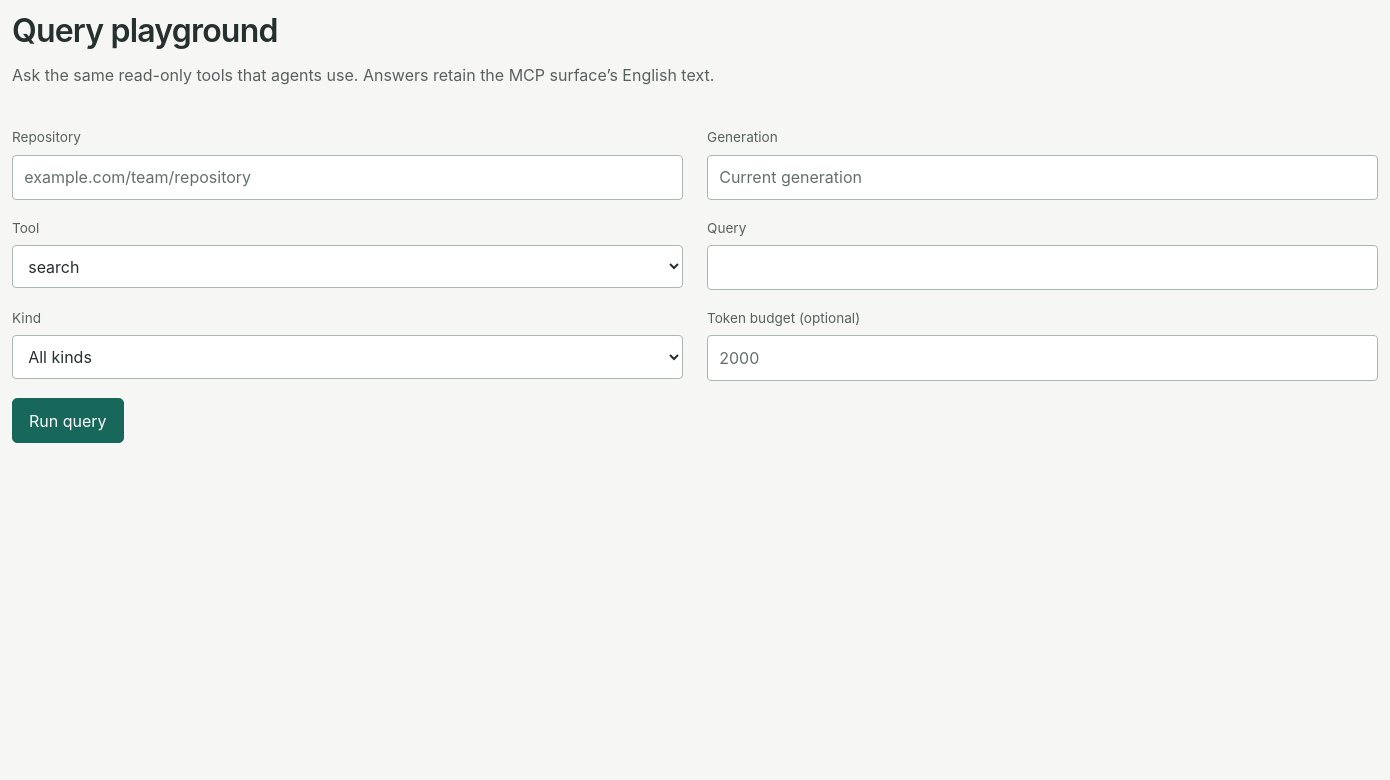
Test: playground sends the served shape and displays the exact answer in en
The image size is (1390, 780).
Type "example.com/chain/web" into the field labelled "Repository" at {"x": 348, "y": 177}, box [12,155,683,200]
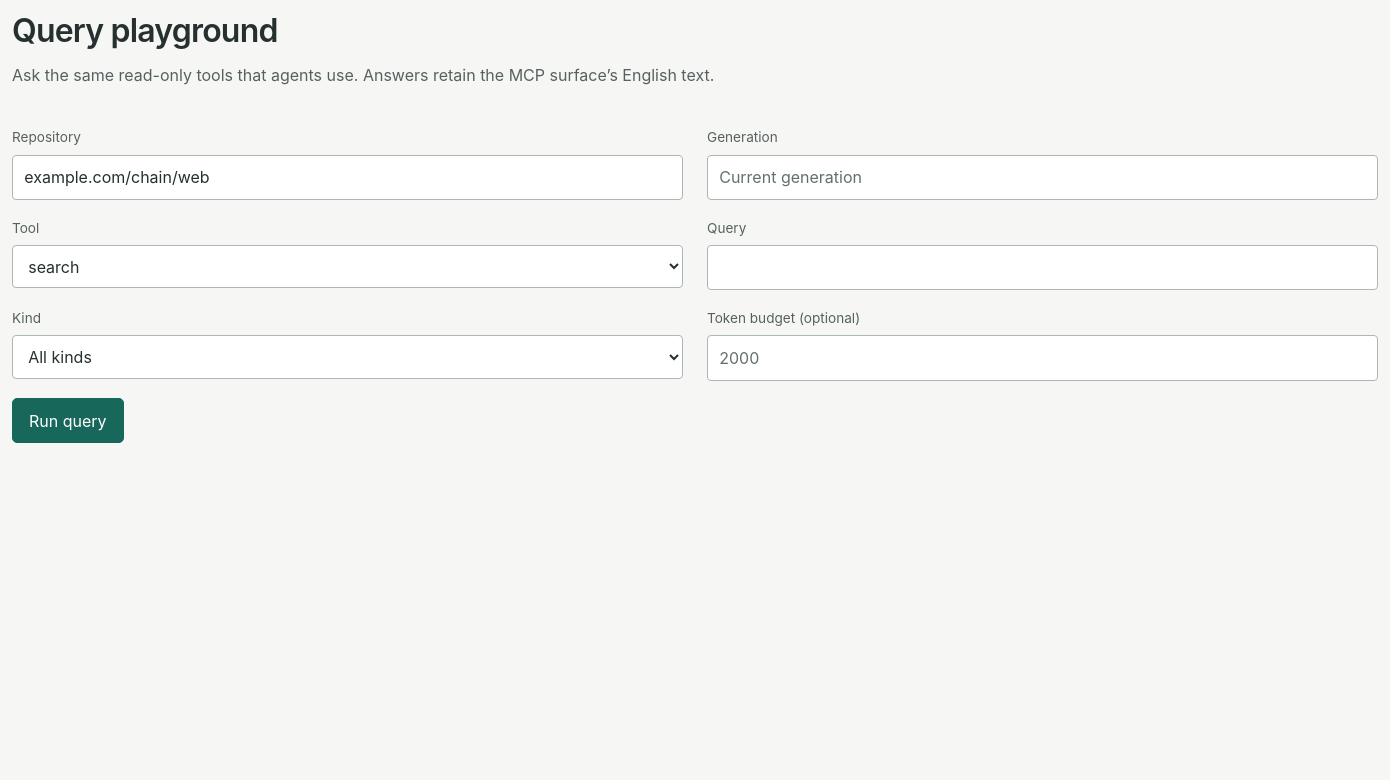
Type "0123456789abcdef" into the field labelled "Generation" at {"x": 1042, "y": 177}, box [707,155,1378,200]
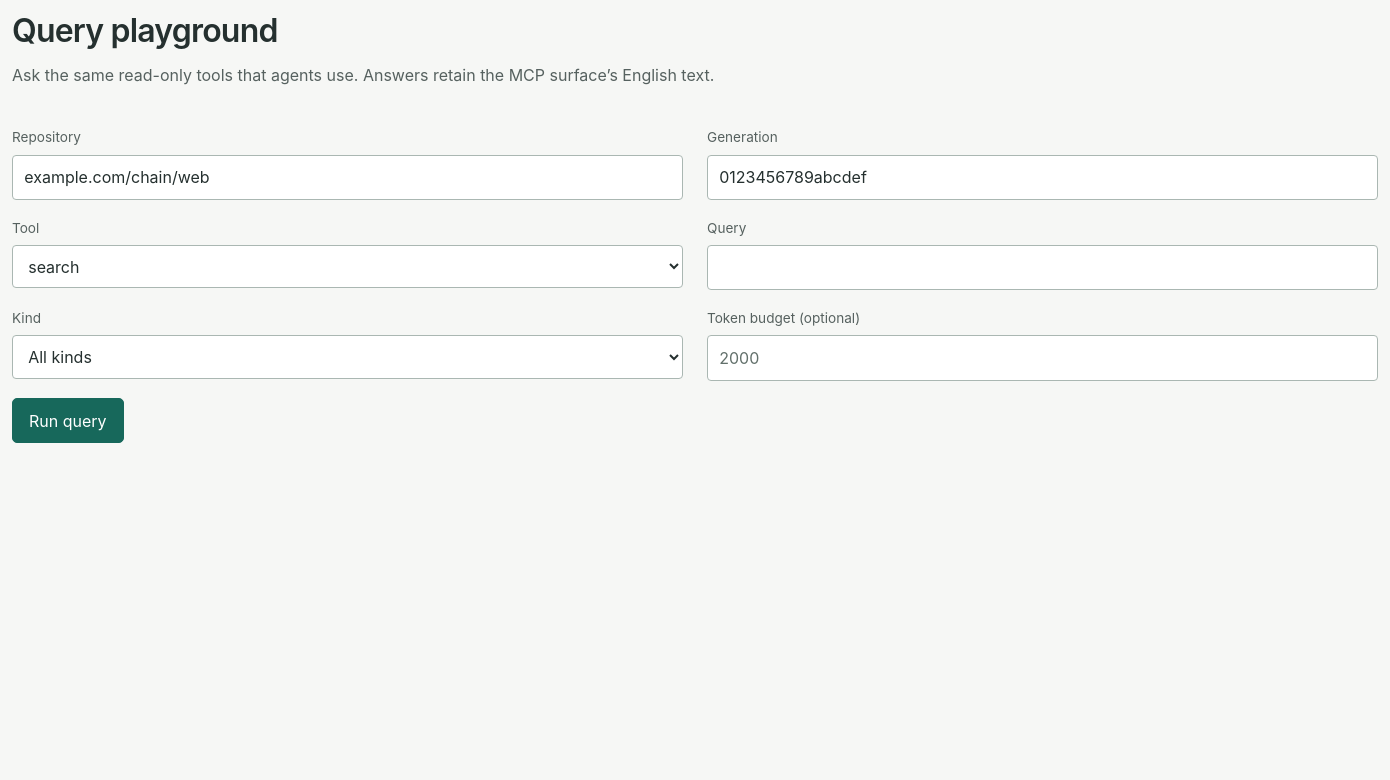
Select "trace" in the dropdown labelled "Tool" at {"x": 348, "y": 267}, box [12,245,683,288]
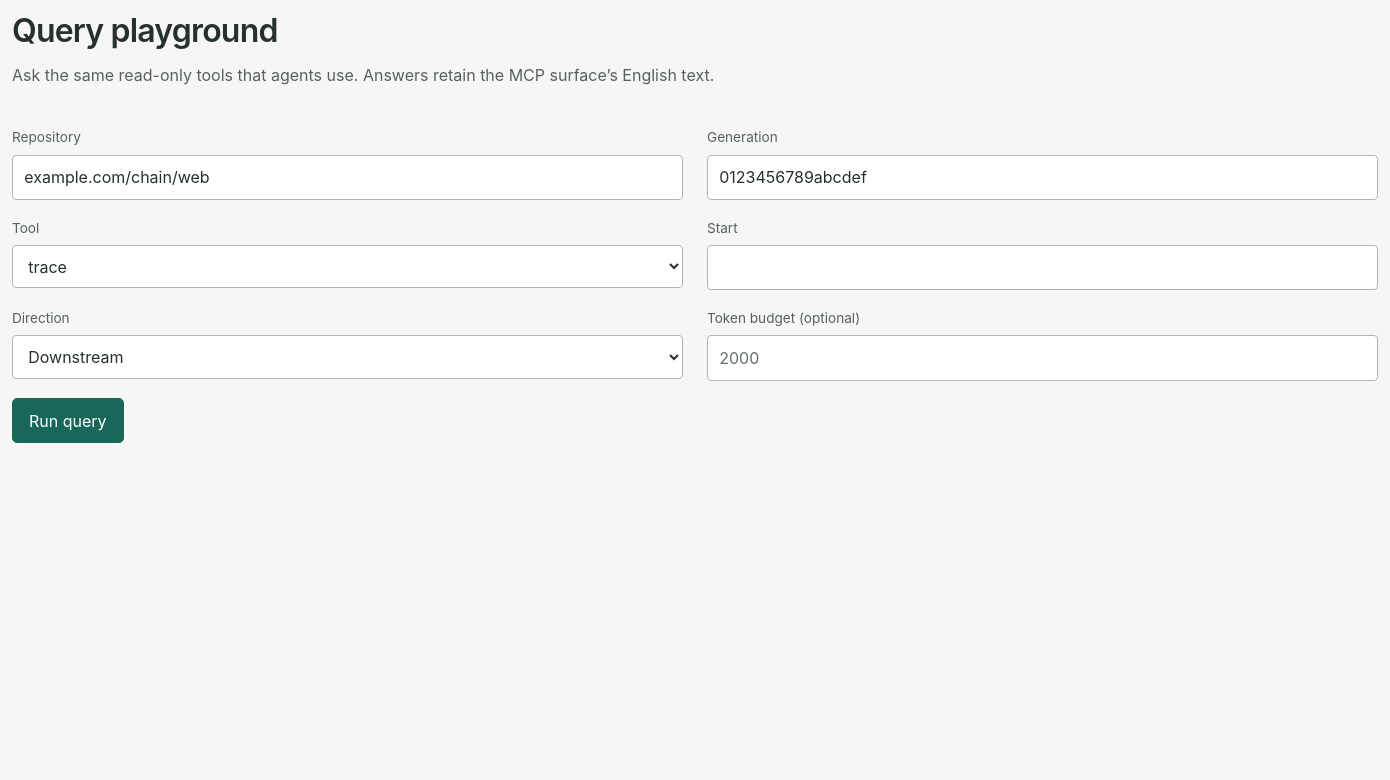
Type "dashboard" into the field labelled "Start" at {"x": 1042, "y": 268}, box [707,245,1378,290]
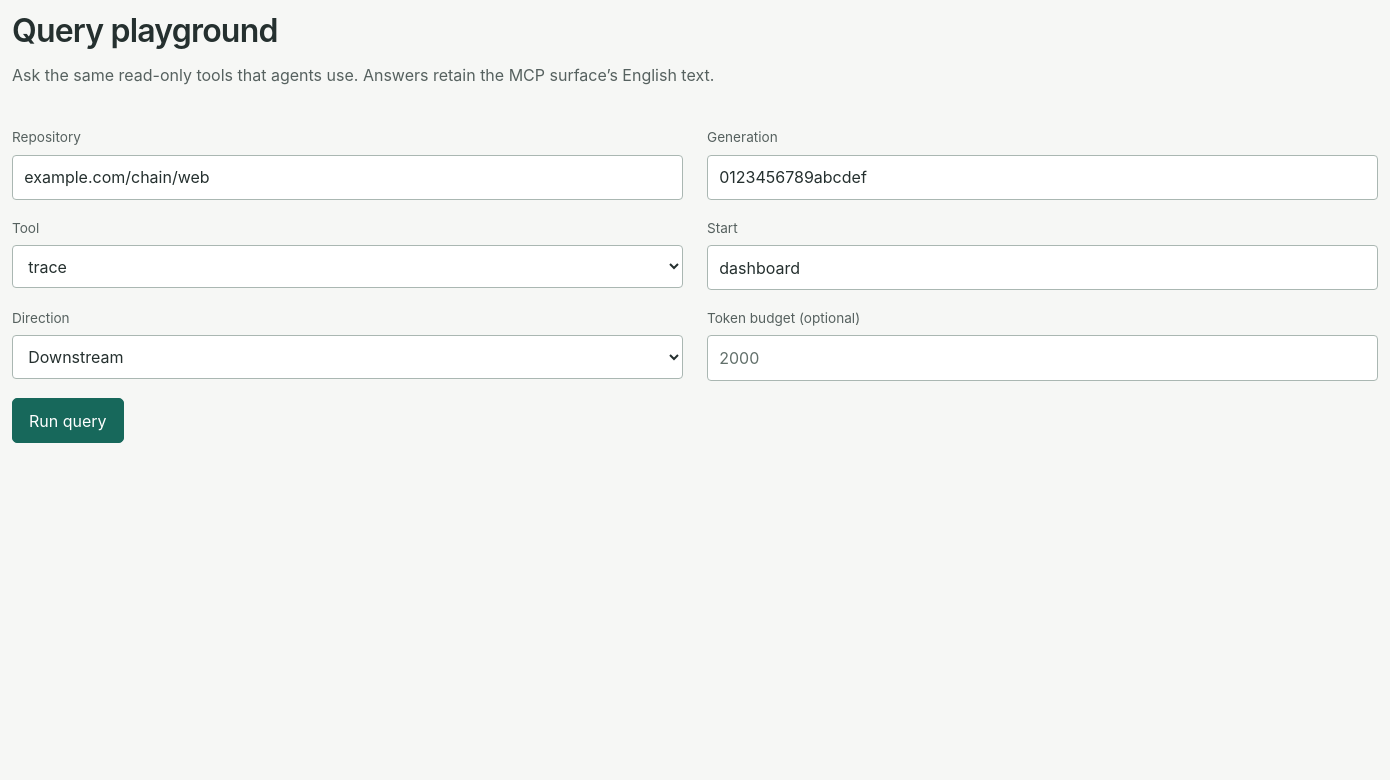
Submit the form named "Query playground", box [12,127,1378,444]
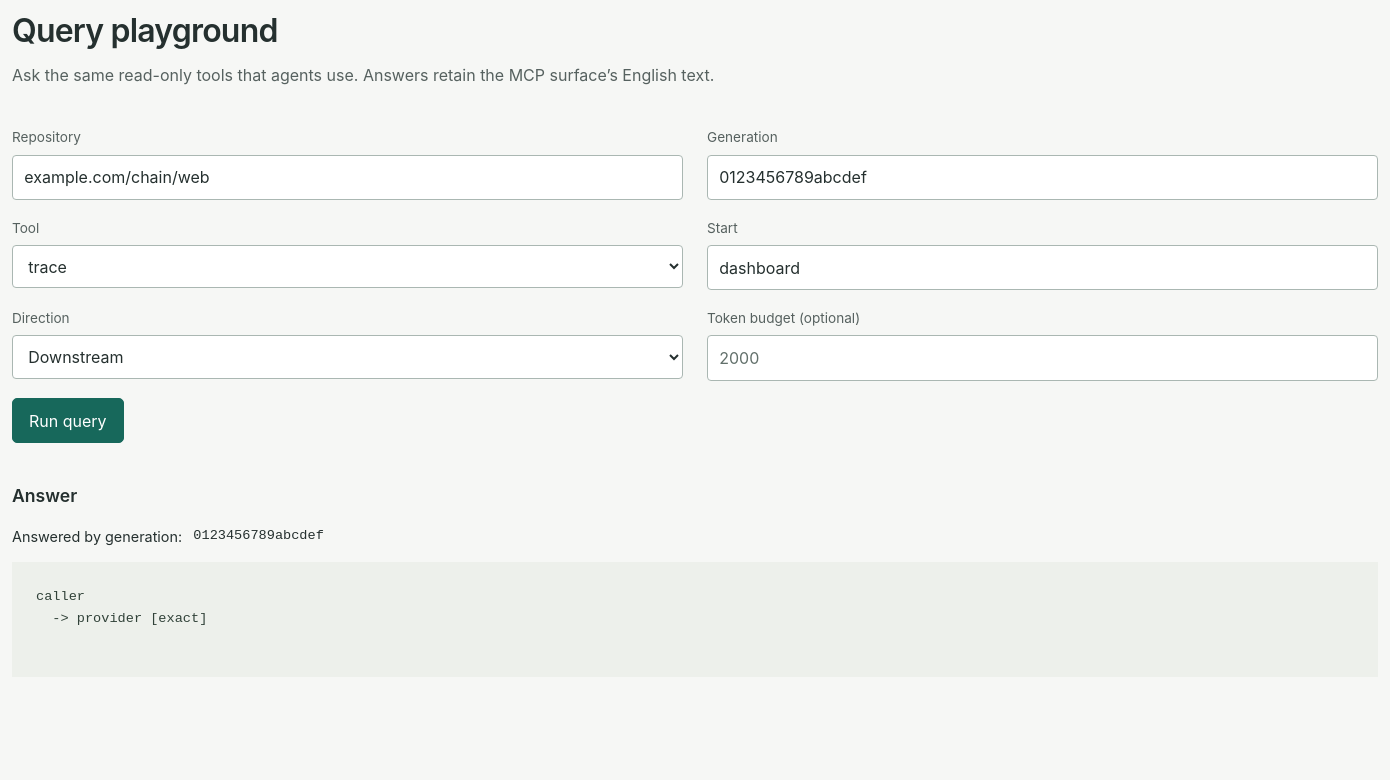
expect the text "0123456789abcdef" is shown: met, box [193,526,324,547]
